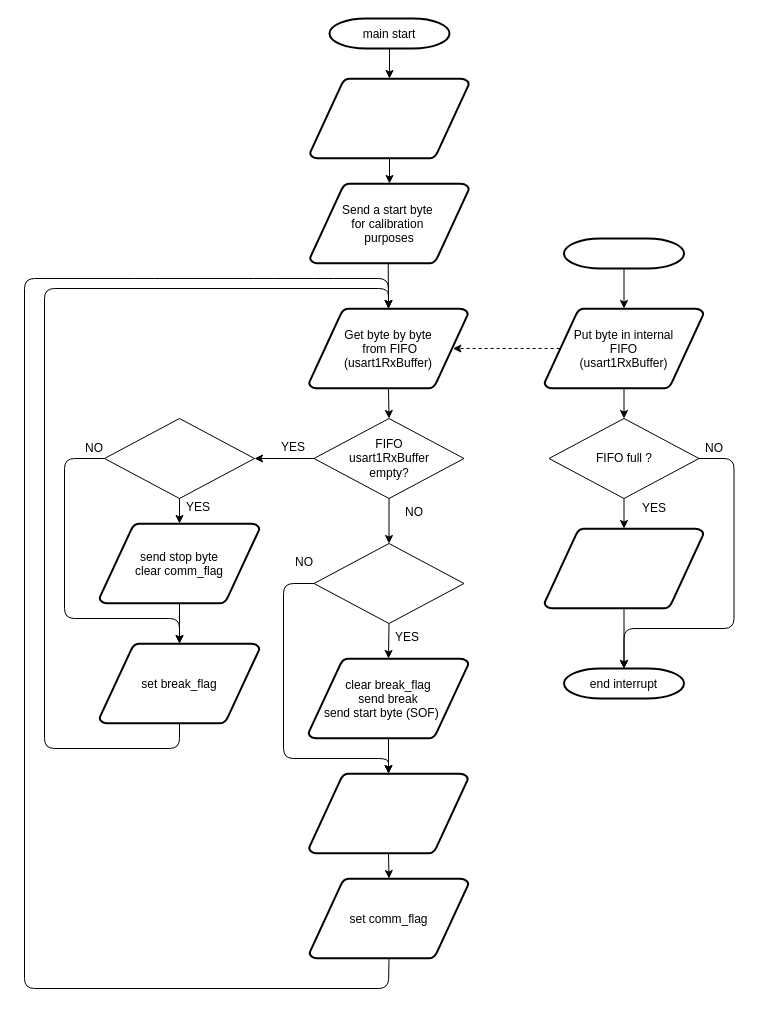
Image size: 760x1014. Some labels were removed from this diagram. Here are the shapes that lost their labels. From the top down, the centre of each, then its label:
the point at 389,118: Initialize peripherals: CCL, USART, EVSYS, GPIO and FIFO buffer
the point at 623,253: USART1 interrupt
the point at 179,458: is set comm_flag?
the point at 388,583: is set break_flag ?
the point at 623,568: Signal data loss
the point at 388,813: Send encoded byte
